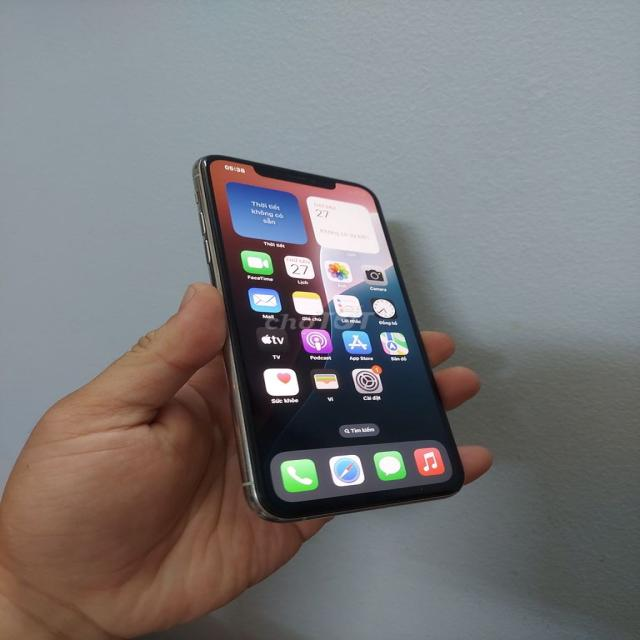gen_11: (193, 156, 461, 521)
